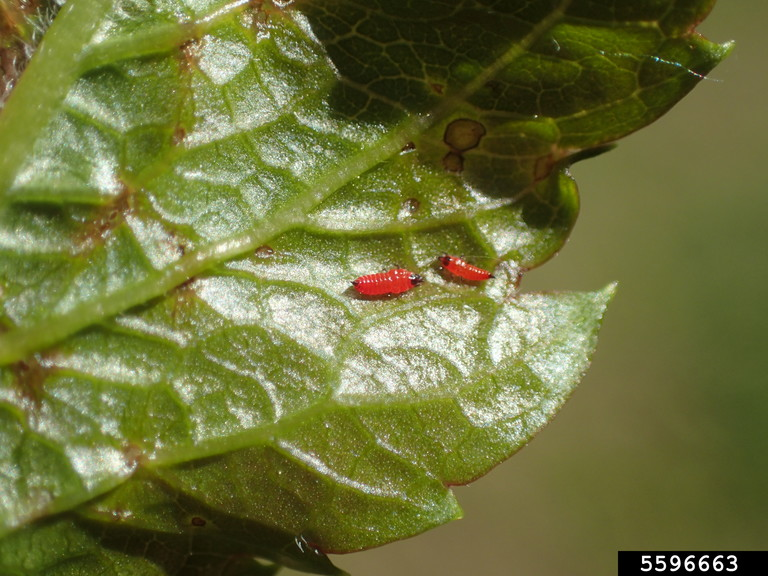Thrips: (343, 265, 426, 297), (437, 252, 500, 292)
